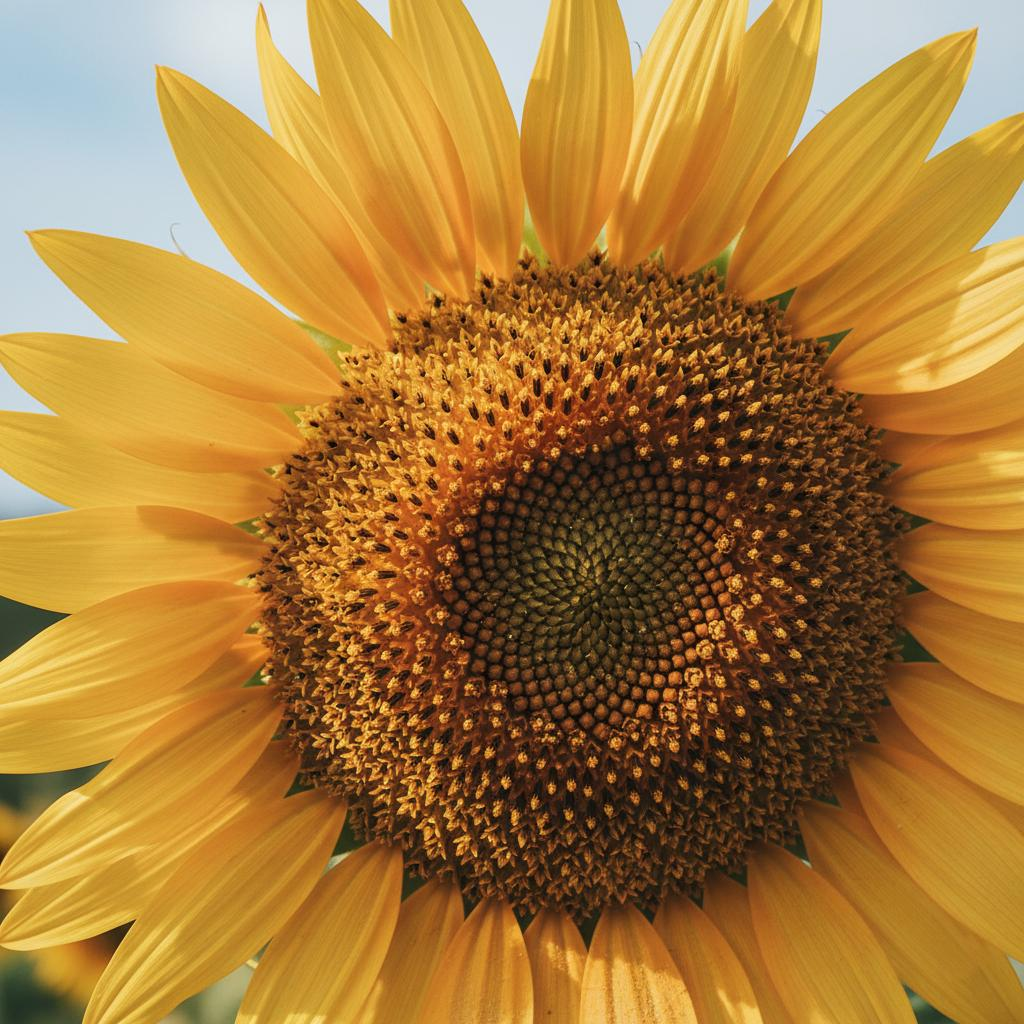sunflower: (1, 0, 1021, 1022)
